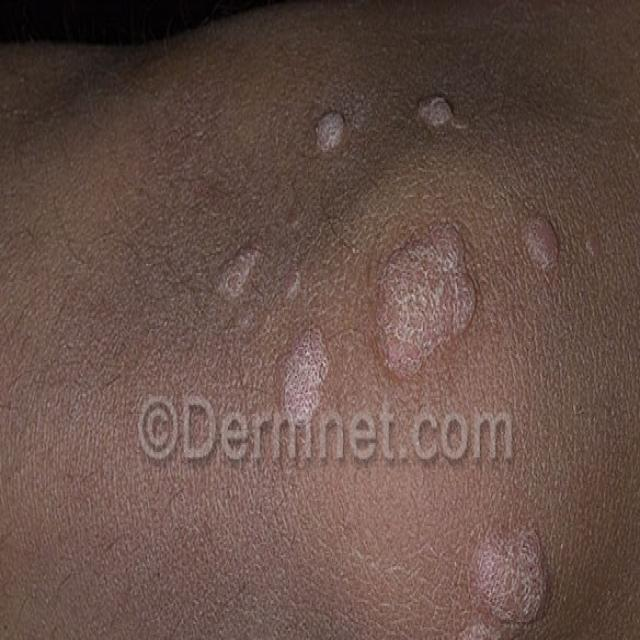Warts: (202, 70, 583, 640)
